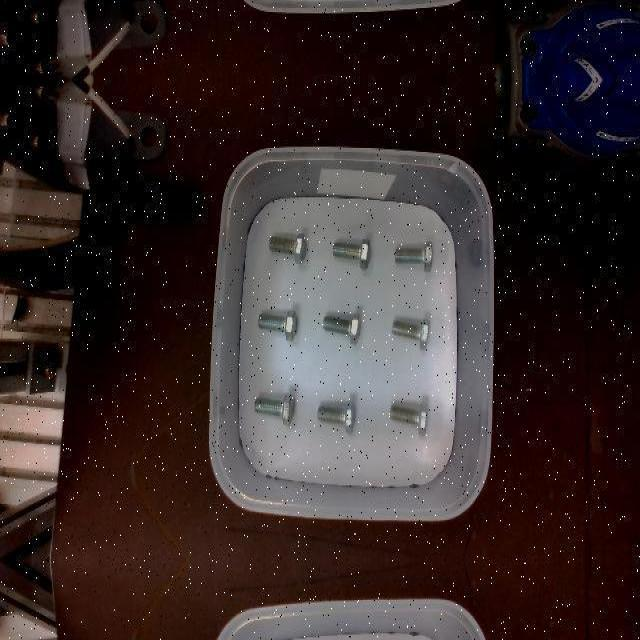screw: (254, 391, 295, 425), (389, 402, 428, 436), (391, 318, 431, 350), (258, 308, 297, 340), (332, 238, 371, 270), (268, 232, 306, 264), (322, 312, 360, 344), (317, 402, 355, 434), (394, 241, 432, 271)
